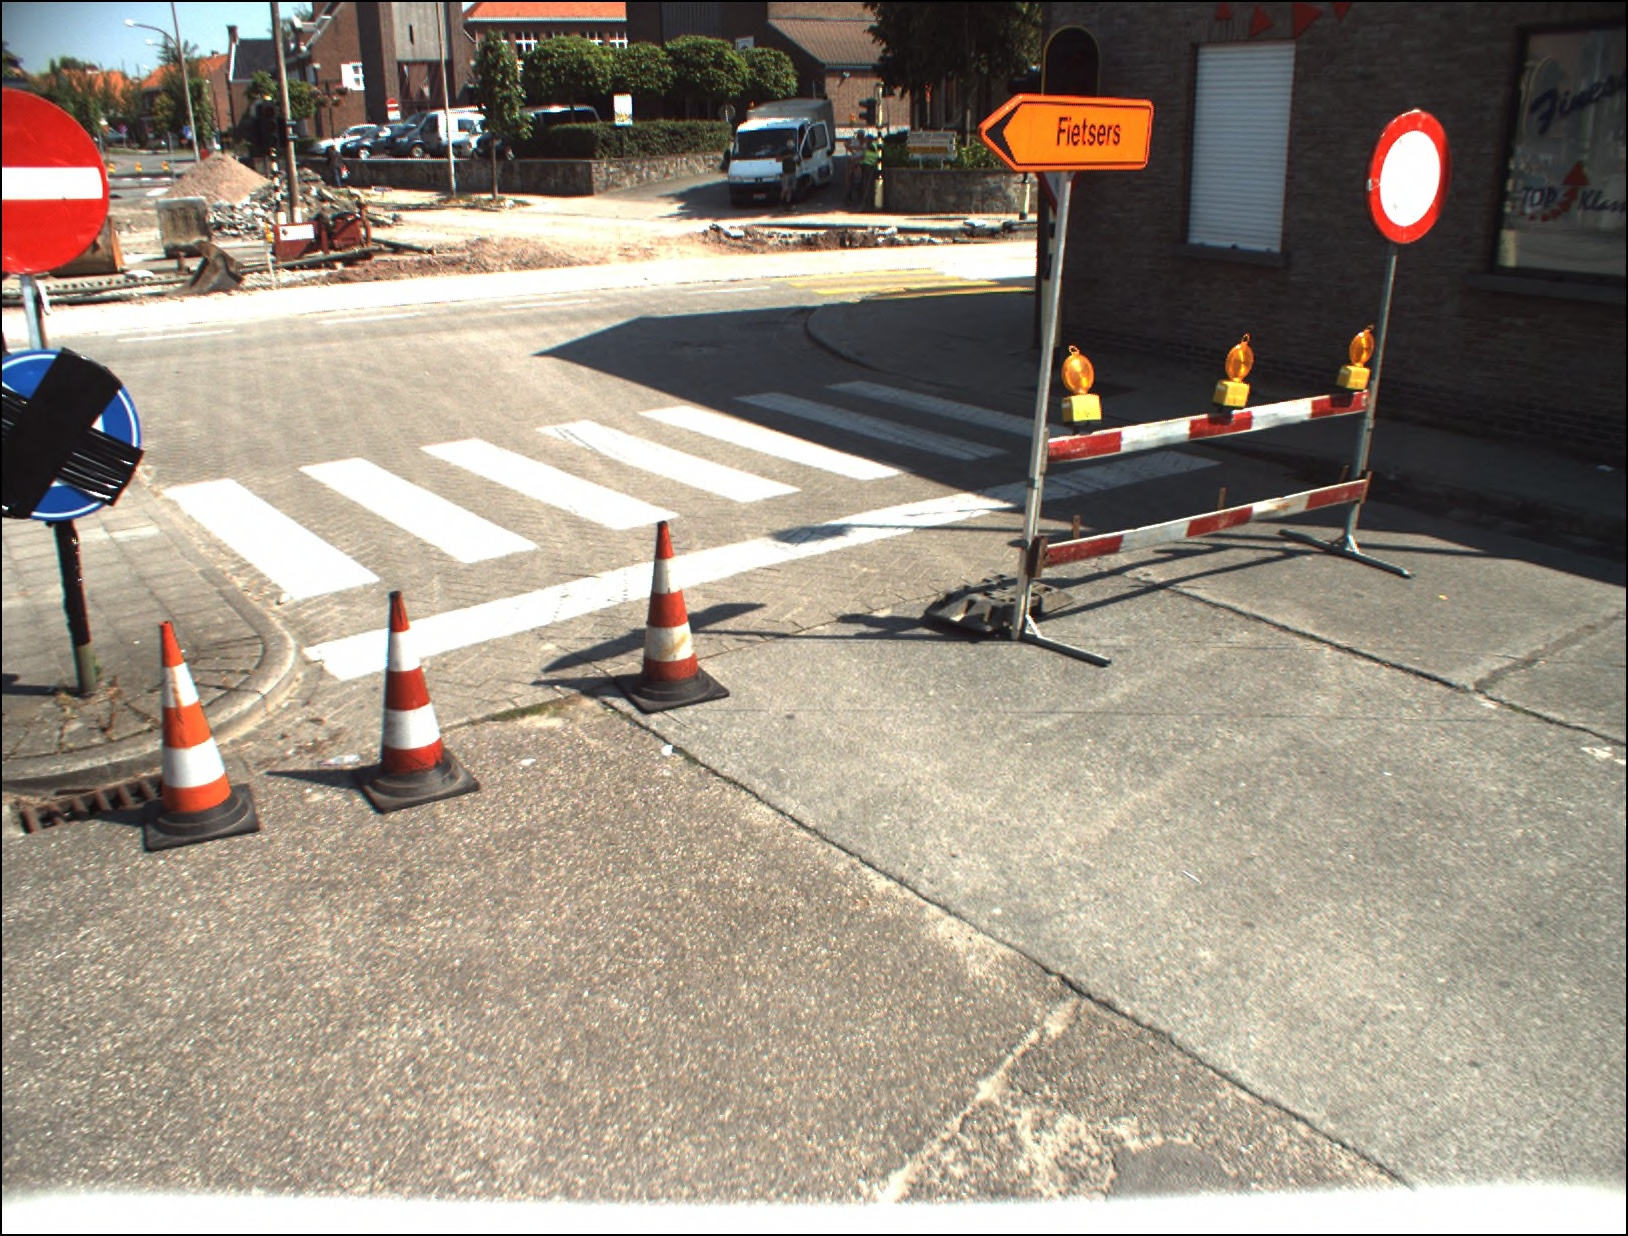forbidden: (1367, 112, 1450, 241)
noentry: (3, 84, 108, 273)
